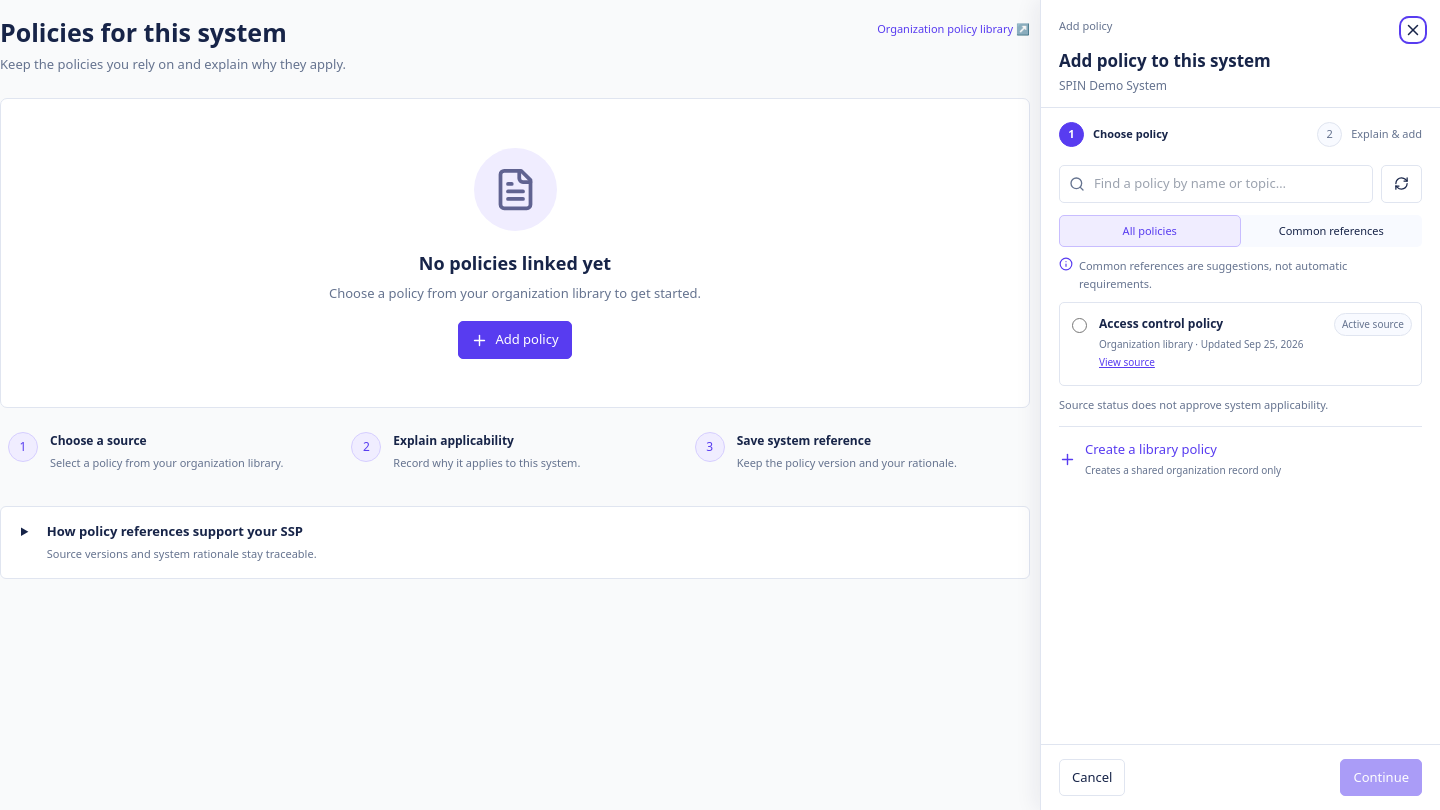
Test: System policy workspace › keeps source conflicts explicit and does not claim the assignment saved
Click the radio button labelled "Access control policy" at x=1080, y=326, box [1072, 318, 1087, 333]
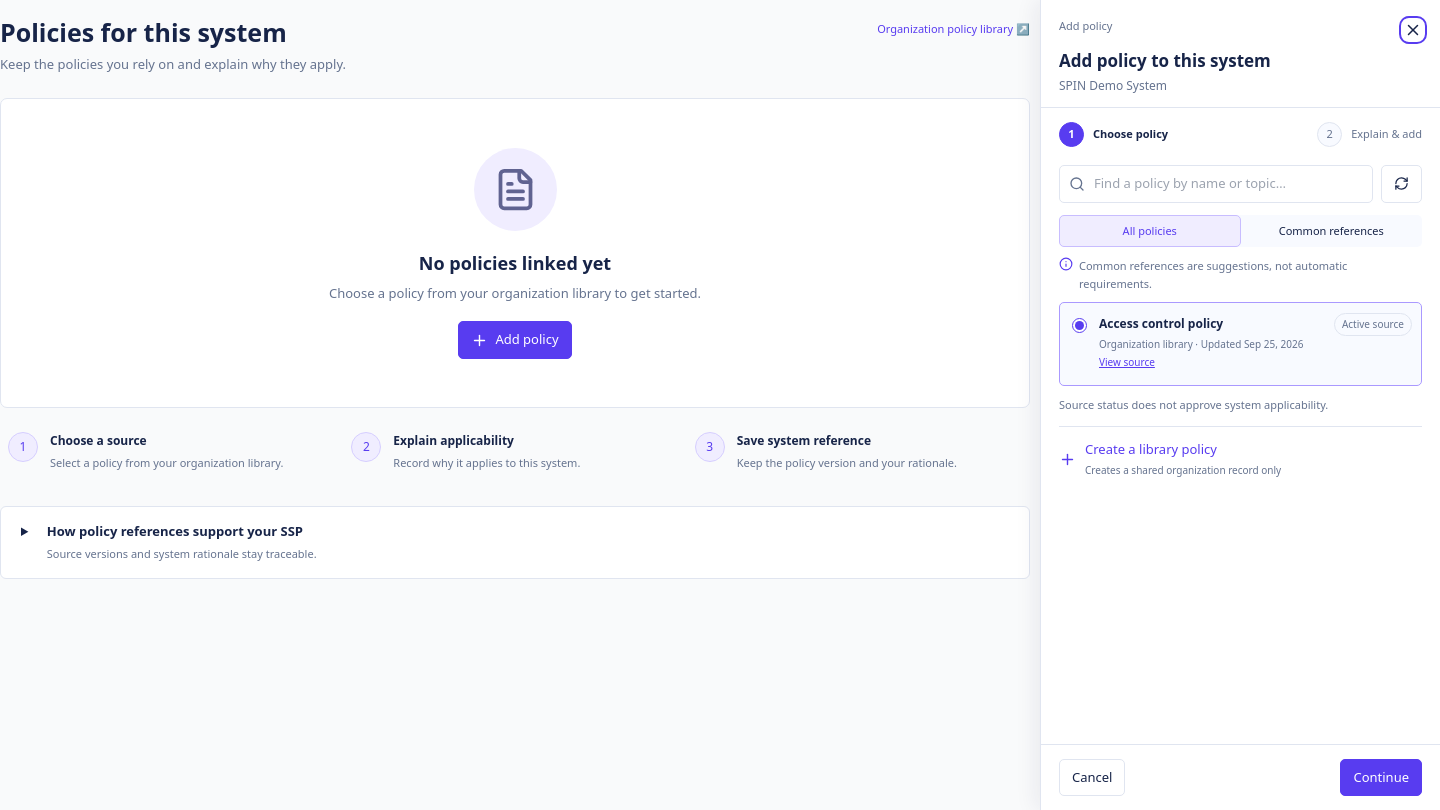
Click the button "Continue" at x=1381, y=777, box [1340, 758, 1422, 796]
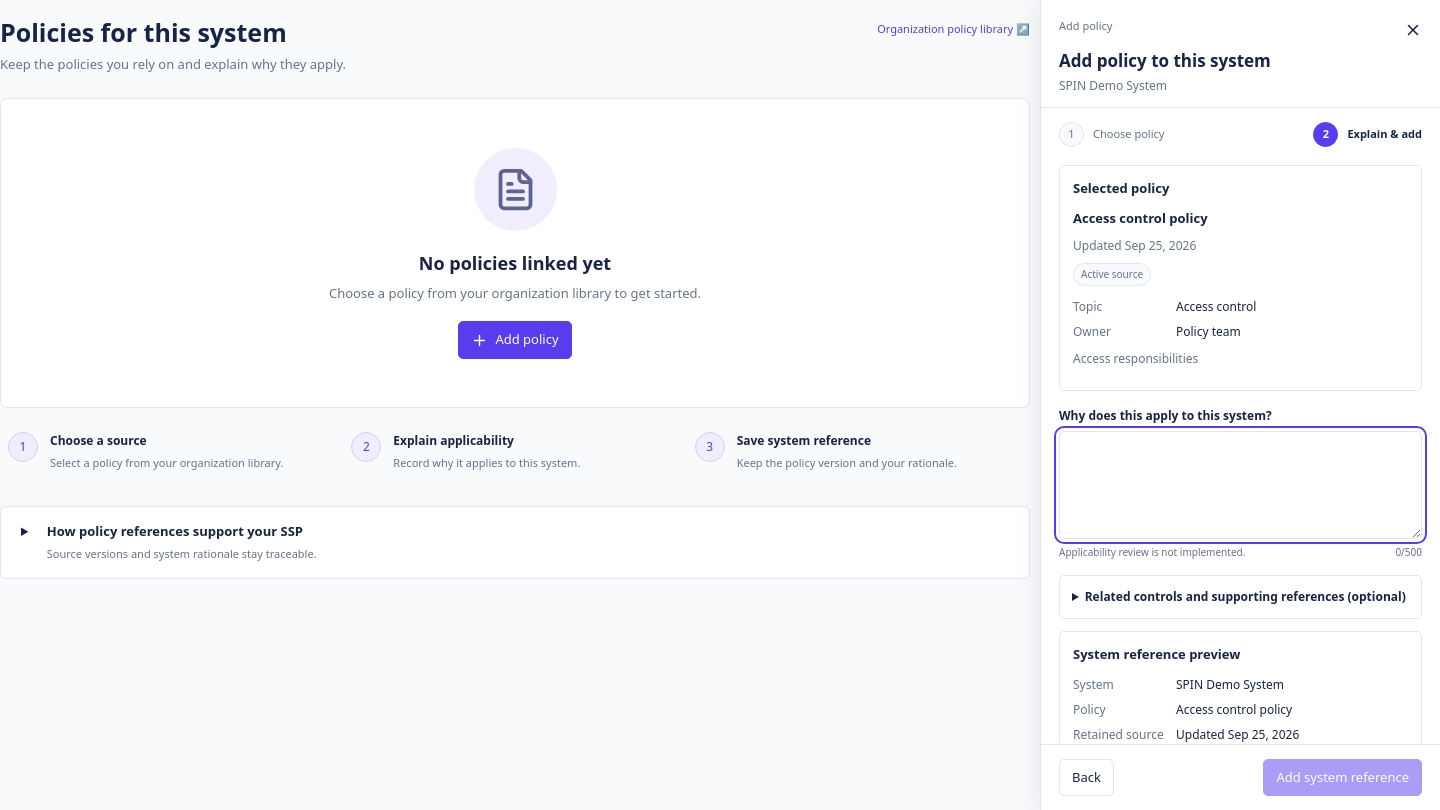
Type "Supports the system." into the text box labelled "Why does this apply to this system?" at x=1240, y=485, box [1059, 431, 1422, 539]
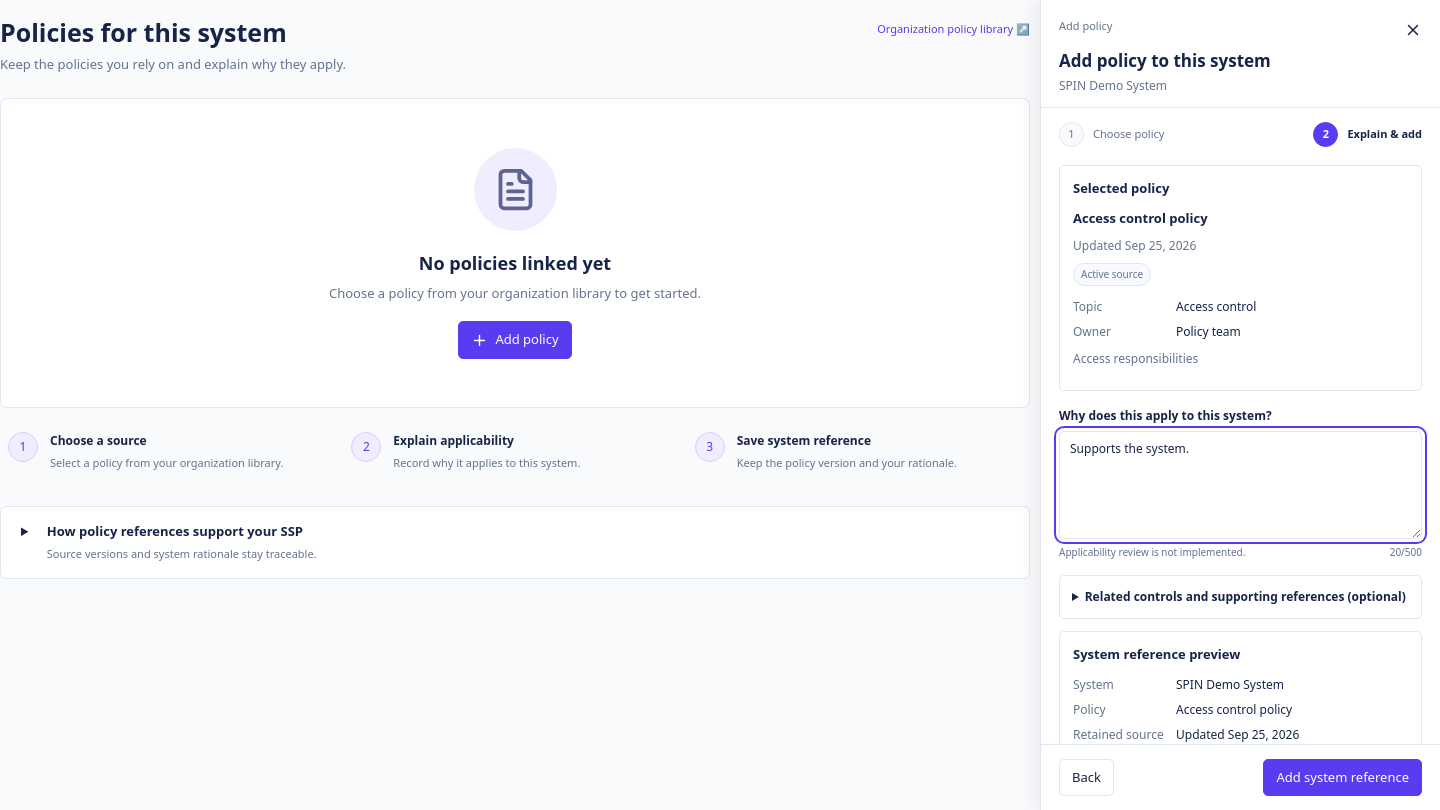
Click the button "Add system reference" at x=1343, y=777, box [1263, 758, 1422, 796]
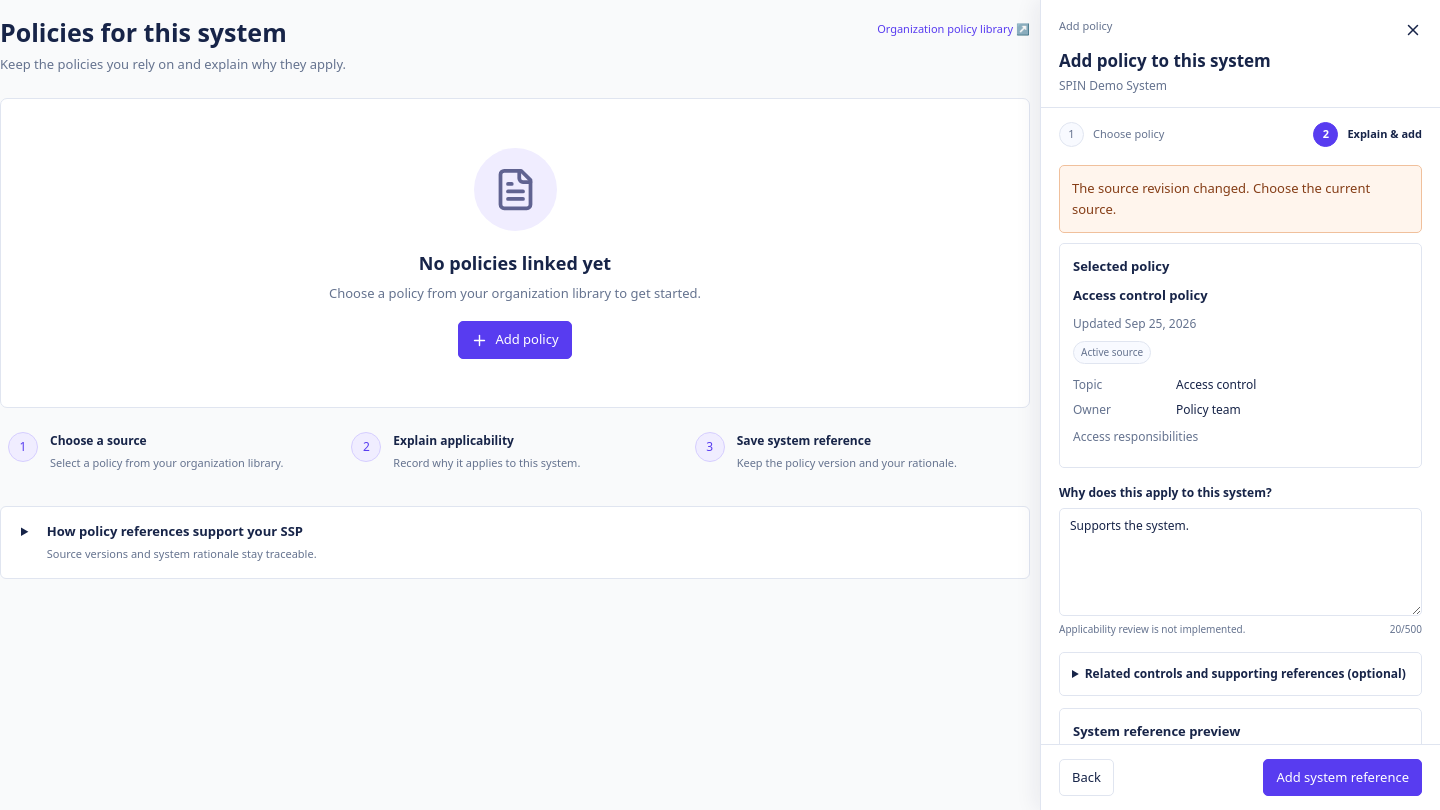
Expected: the message shows "source revision changed", [1072, 179, 1370, 218]
Click the button "Back" at x=1086, y=777, box [1059, 758, 1114, 796]
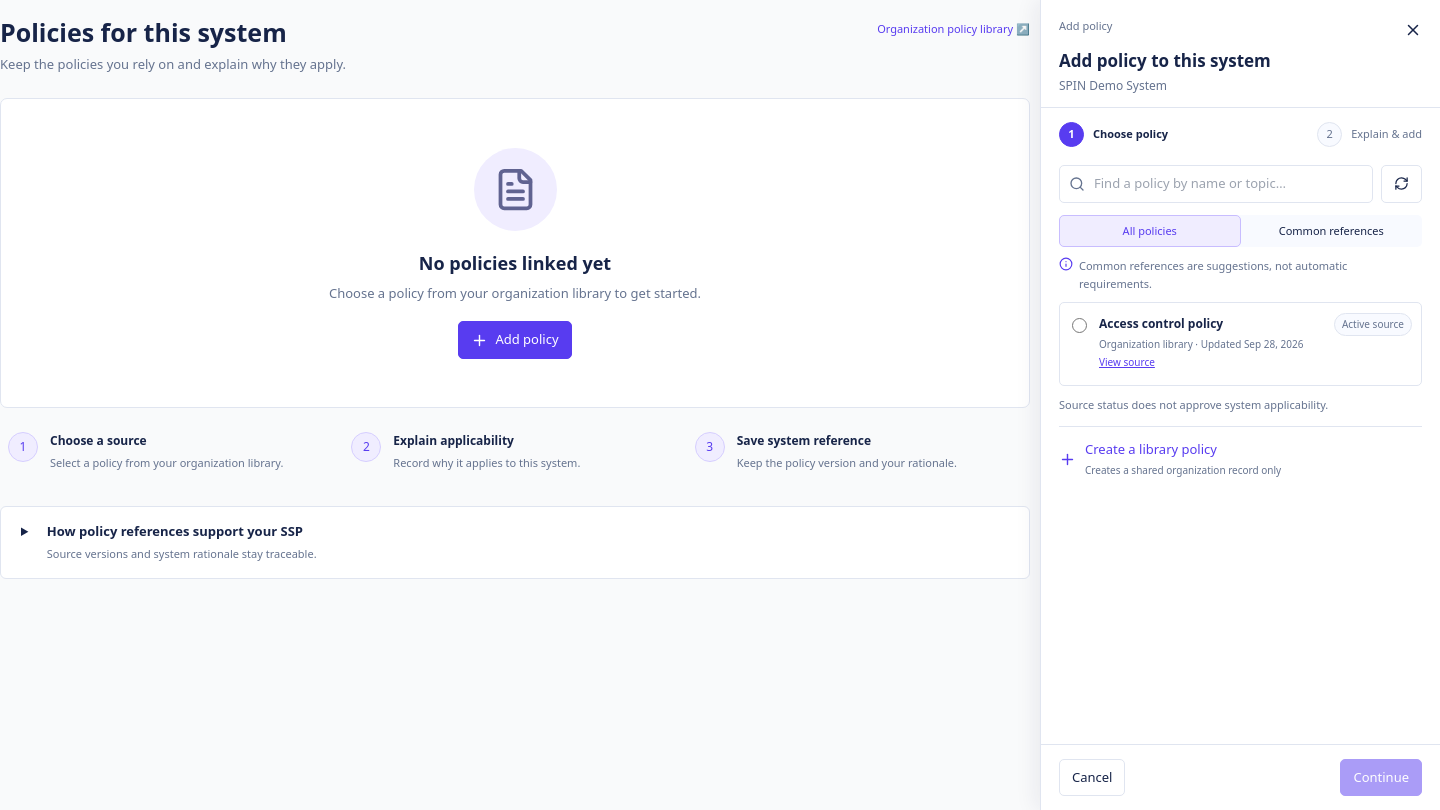
Expected: the radio button labelled "Updated Sep 28, 2026" is not checked, [1072, 318, 1087, 333]
Expected: the button "Continue" is disabled, [1340, 758, 1422, 796]
